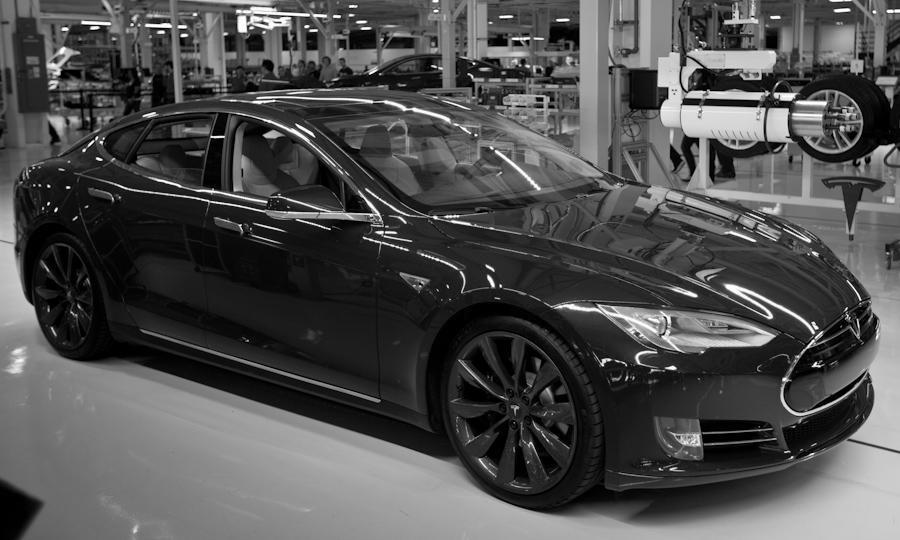car: (13, 93, 880, 511)
